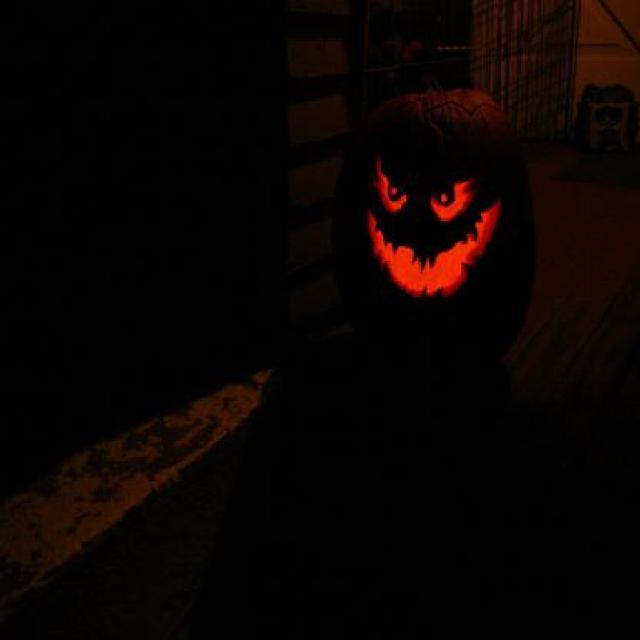Pumpkin: (332, 66, 542, 322)
